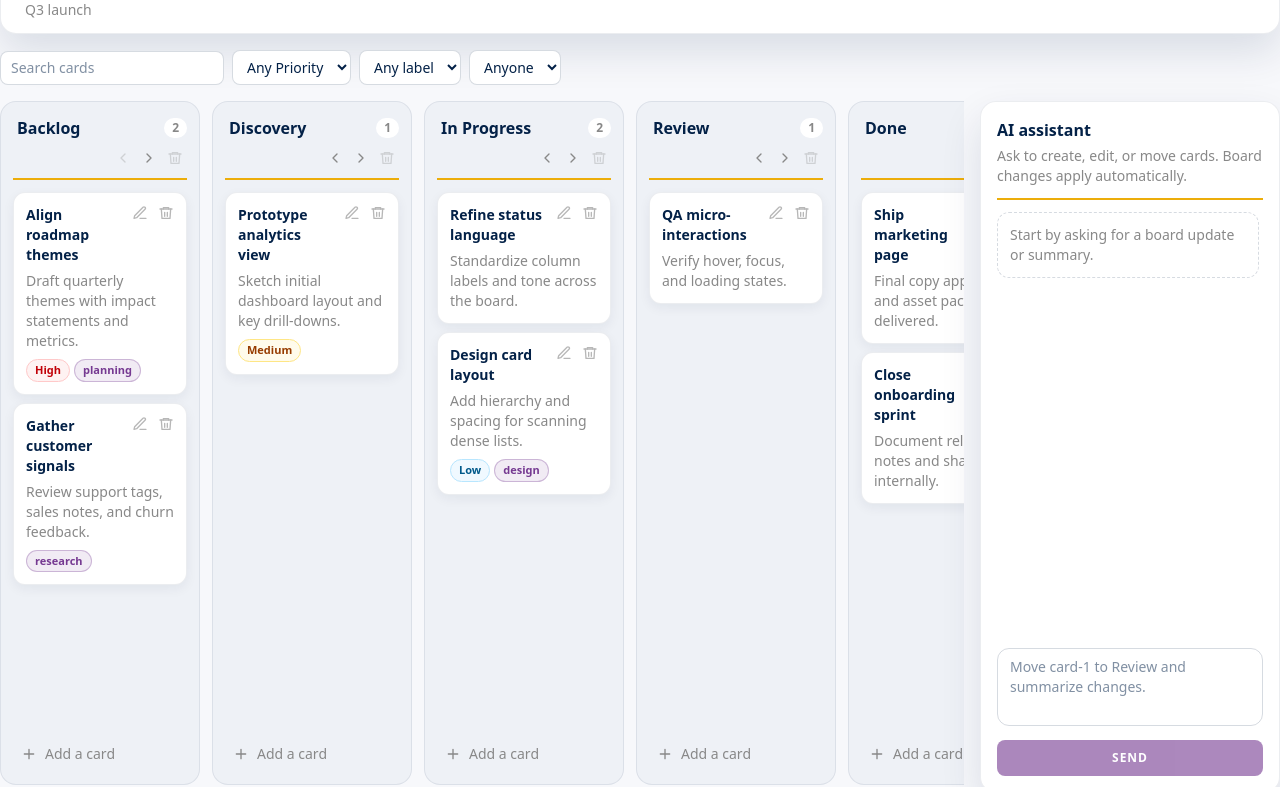
Test: KanbanBoard › adds and removes a card
This screenshot has width=1280, height=787.
(page scrolled)
Click the 1st button "Add a card" at [100, 754], box [13,736,187,772]
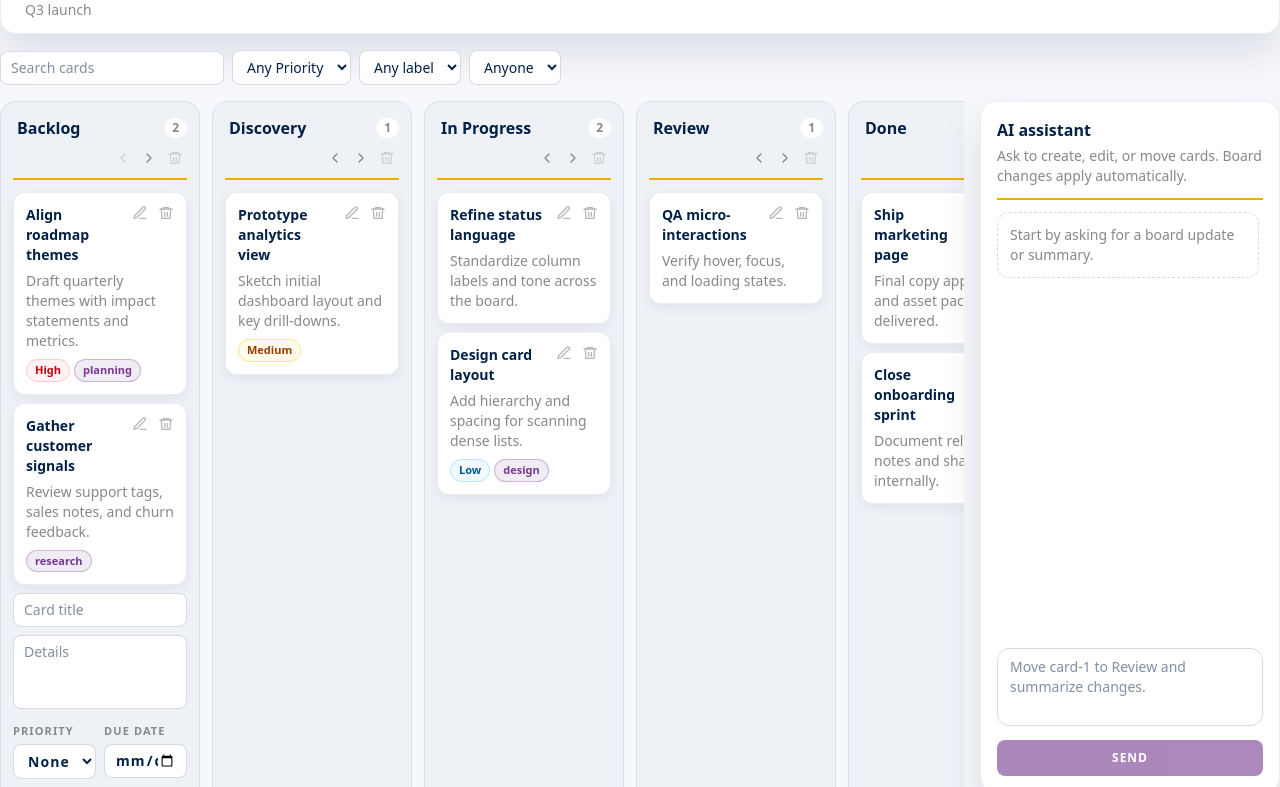
Type "New card" into the field labelled "Card title" at [100, 610], box [13,593,187,627]
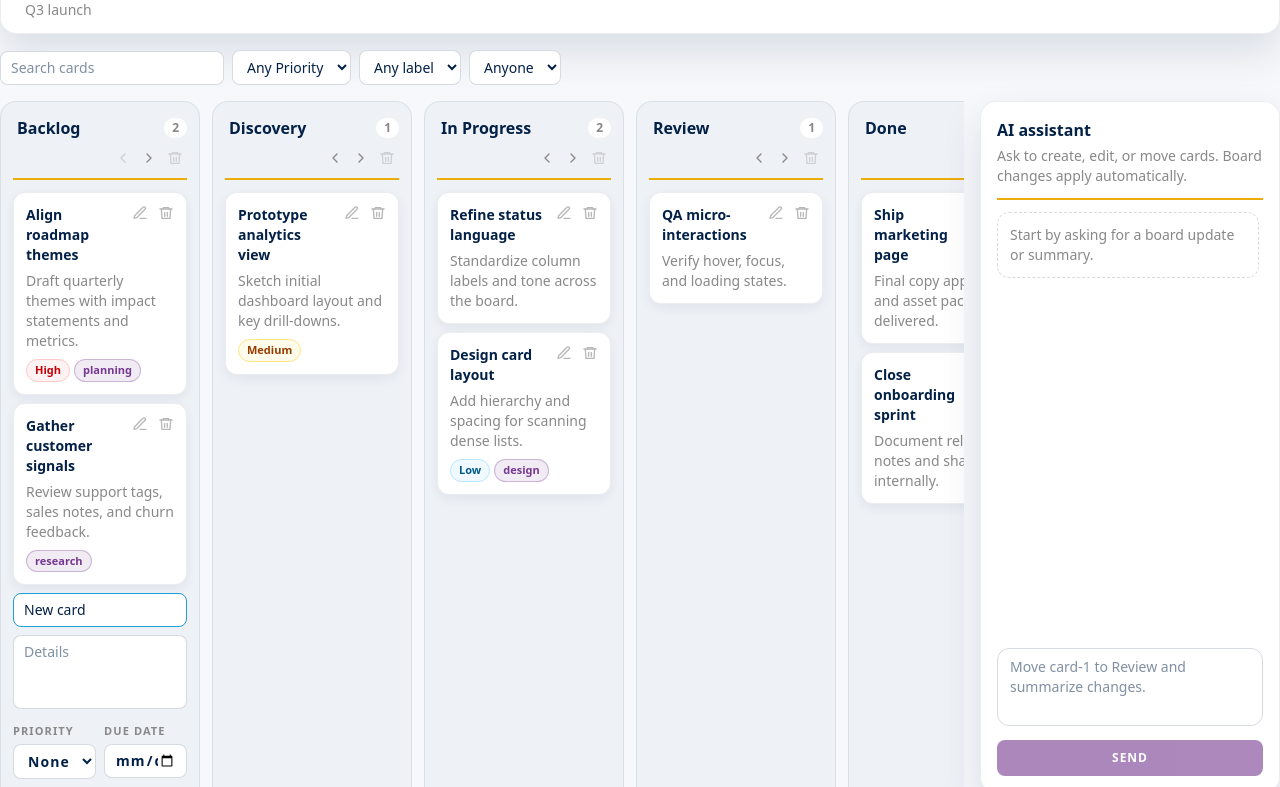
Type "Notes" into the text box labelled "Details" at [100, 672], box [13,635,187,709]
(page scrolled)
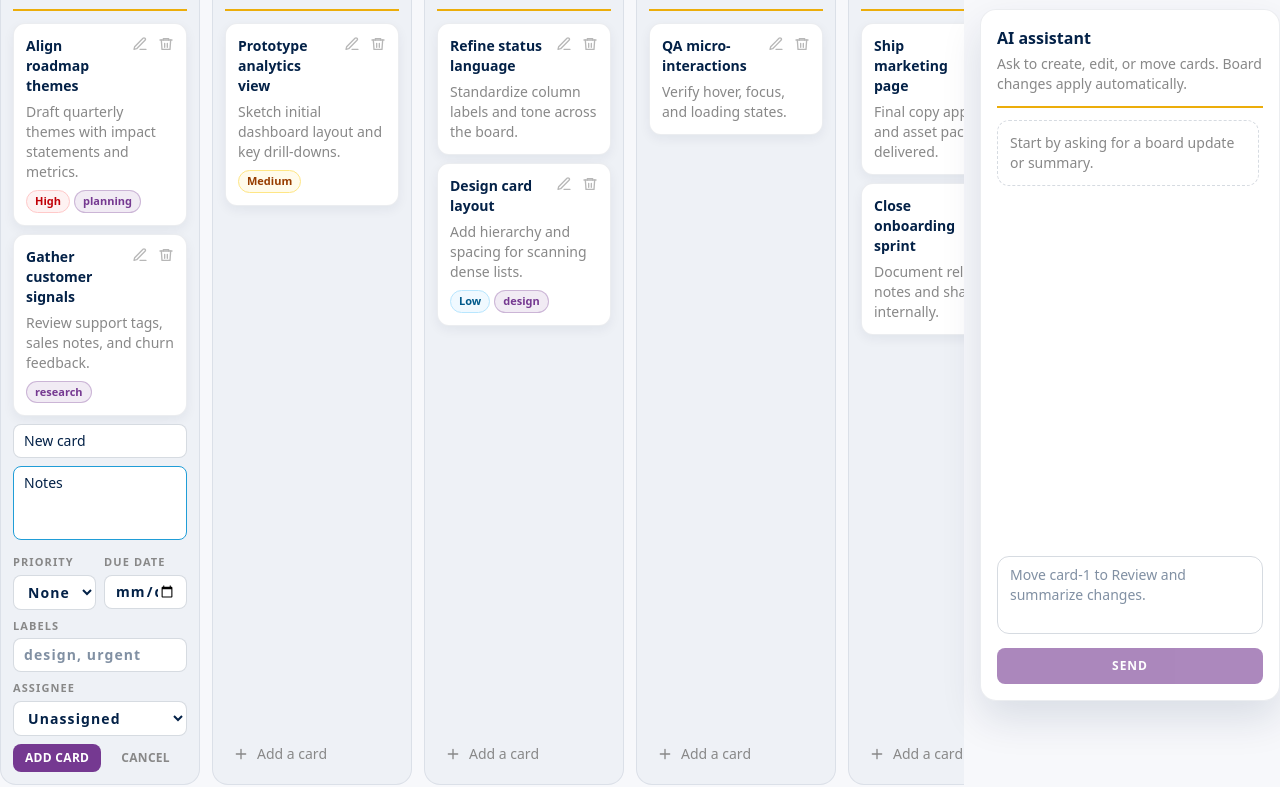
Click the button "Add card" at [57, 758], box [13,744,101,772]
(page scrolled)
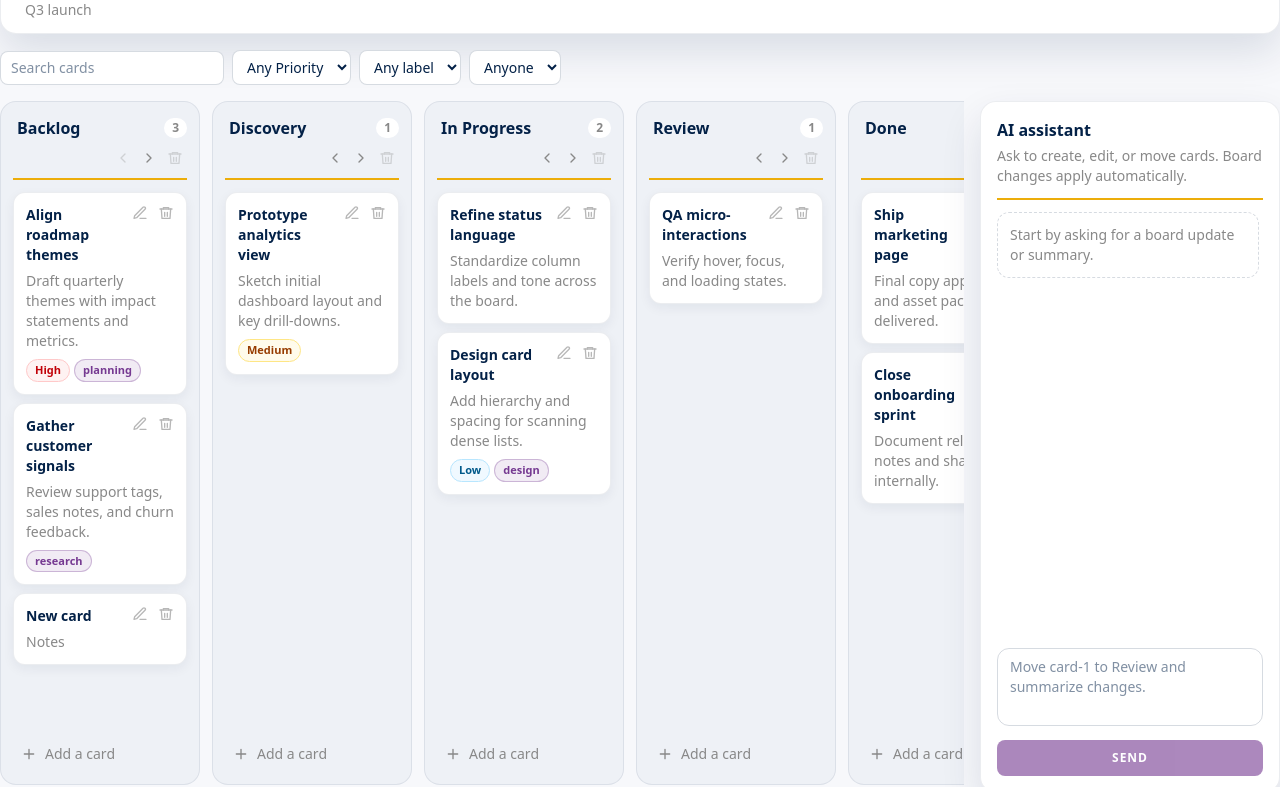
Check: the heading "New card" is shown, box [26,606,92,625]
Click the button named "delete new card" at [166, 614], box [154,602,178,626]
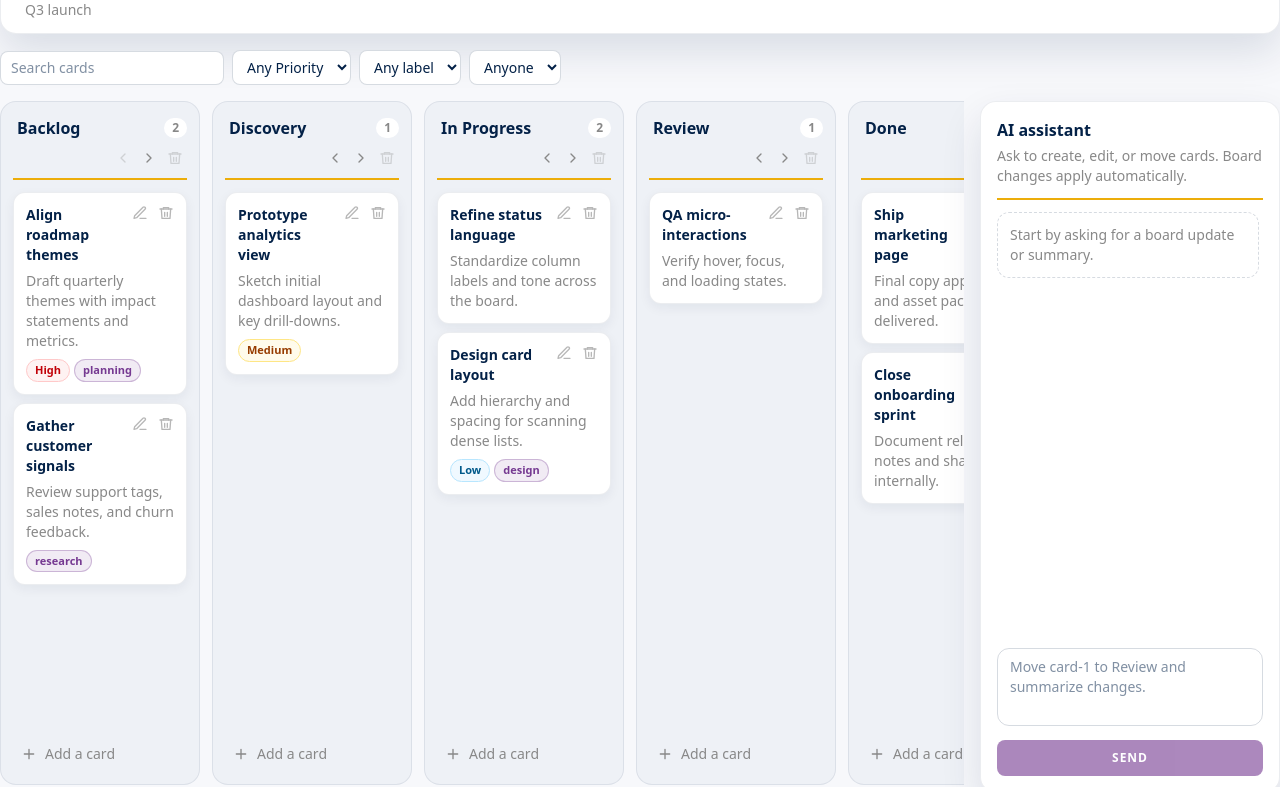
Check: the button "New card" is gone
